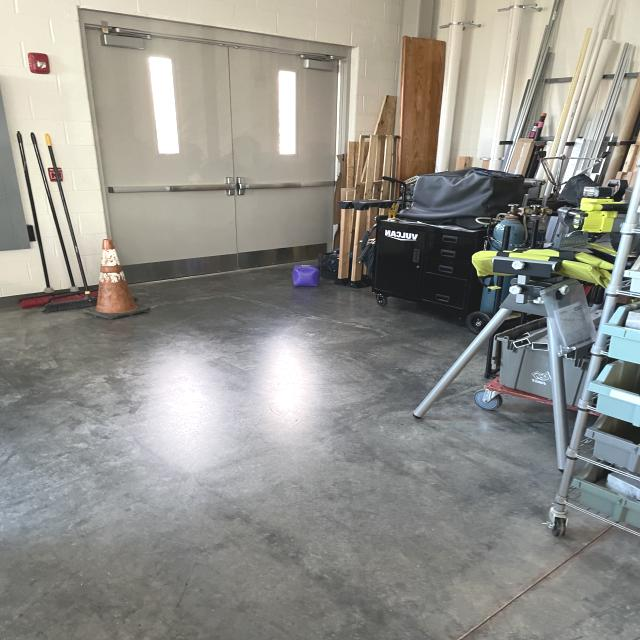frc_cube: (289, 262, 321, 290)
